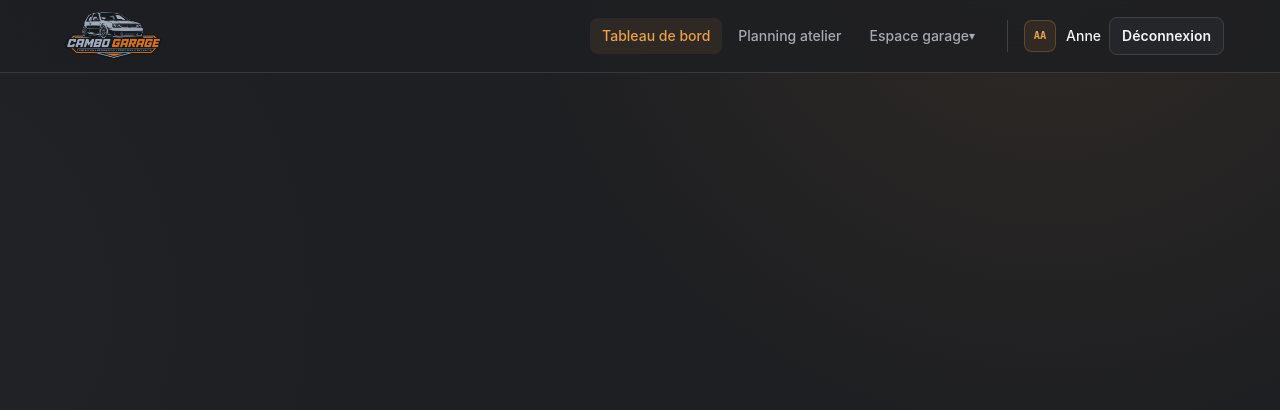
Test: SiteHeader › ajoute la gestion des utilisateurs pour un administrateur
This screenshot has width=1280, height=410.
Click the button "Espace garage ▾" at [922, 36], box [858,18,987,54]
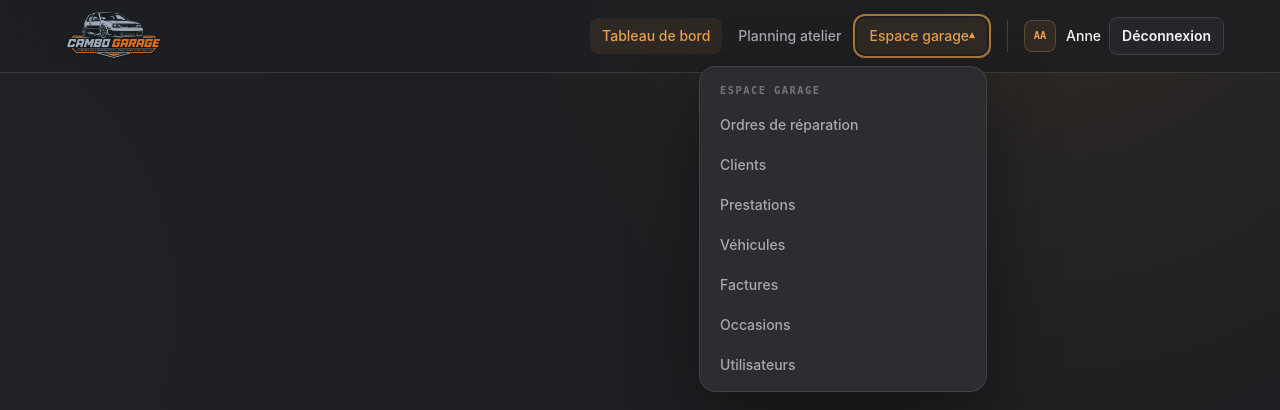
Result: the link "Ordres de réparation" is shown at [720,116,858,133]
